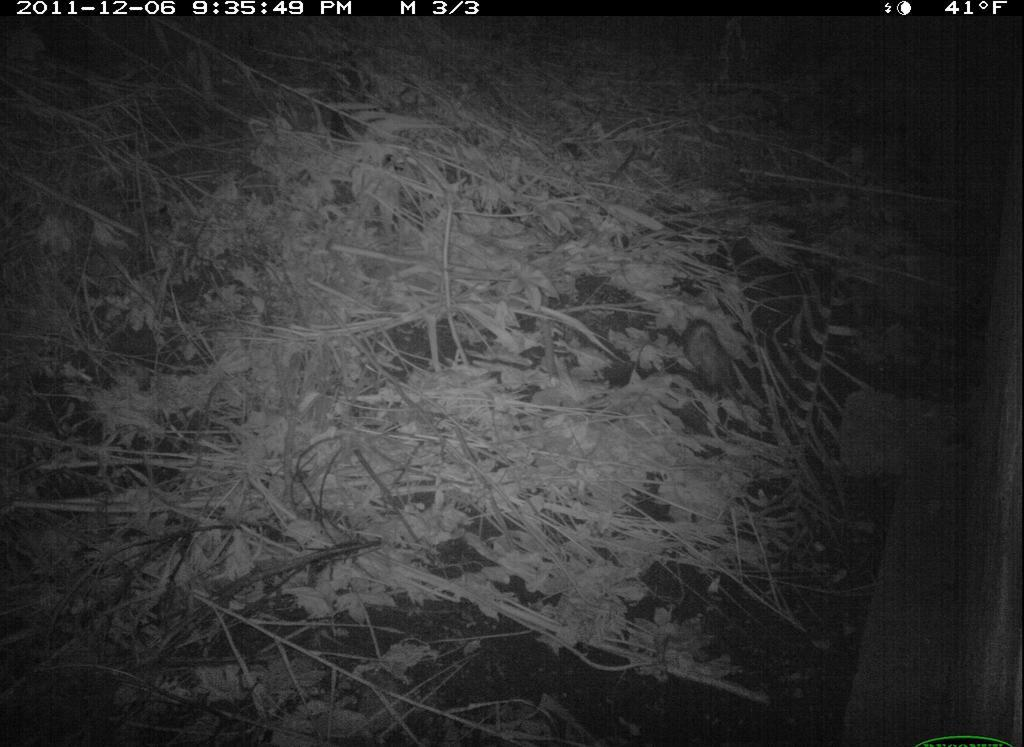opossum: (674, 303, 770, 437)
